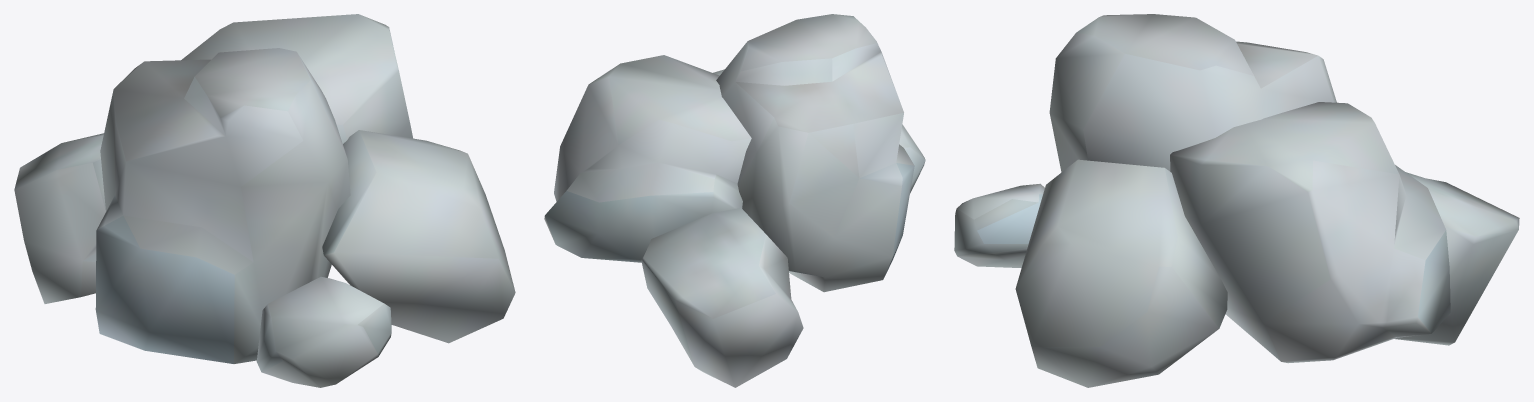
Rendered from P_RockSpire_RockClumpB01.obj.
3 renders of one model, left to right at view 1: azimuth 30°, elevation 25°; view 2: azimuth 150°, elevation 25°; view 3: azimuth 270°, elevation 25°, orthographic. The views are drawn at different scales.
Bounding box in the file's own units: 4.63 × 3.9 × 6.17.
